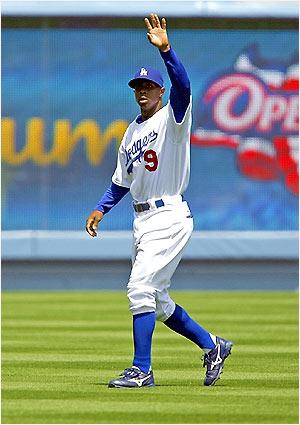person: (83, 15, 234, 389)
